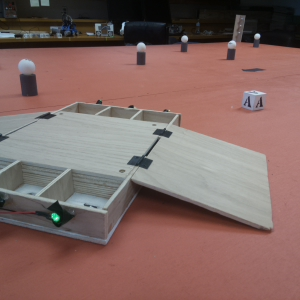blockA: (240, 87, 269, 111)
corner: (232, 14, 246, 39)
obstacle: (15, 57, 45, 100), (132, 40, 152, 68), (224, 41, 238, 61), (177, 34, 191, 52), (253, 30, 264, 47)
side: (1, 168, 125, 233), (62, 98, 179, 125)
slope: (130, 128, 276, 221), (1, 110, 54, 139)
start: (241, 64, 268, 76)
